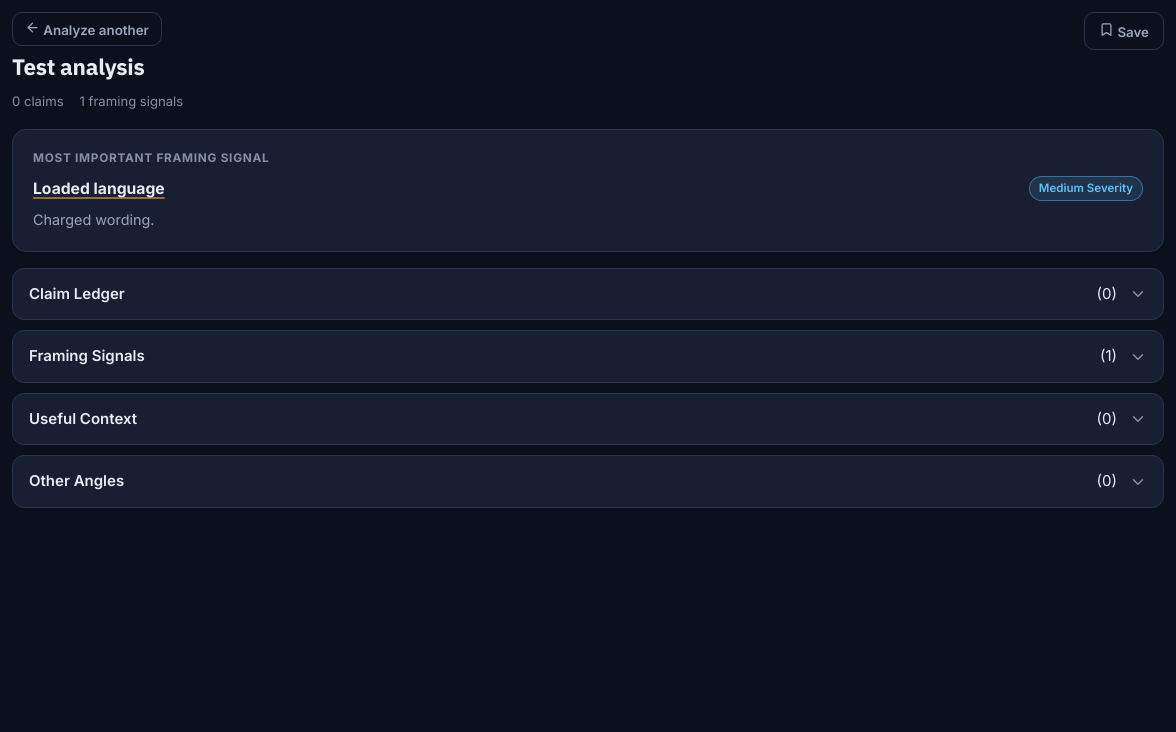
Test: Report gated Save — active session › shows "save did not complete" and re-enables on failure
Click the button "Save" at (1124, 31), box [1084, 12, 1164, 50]
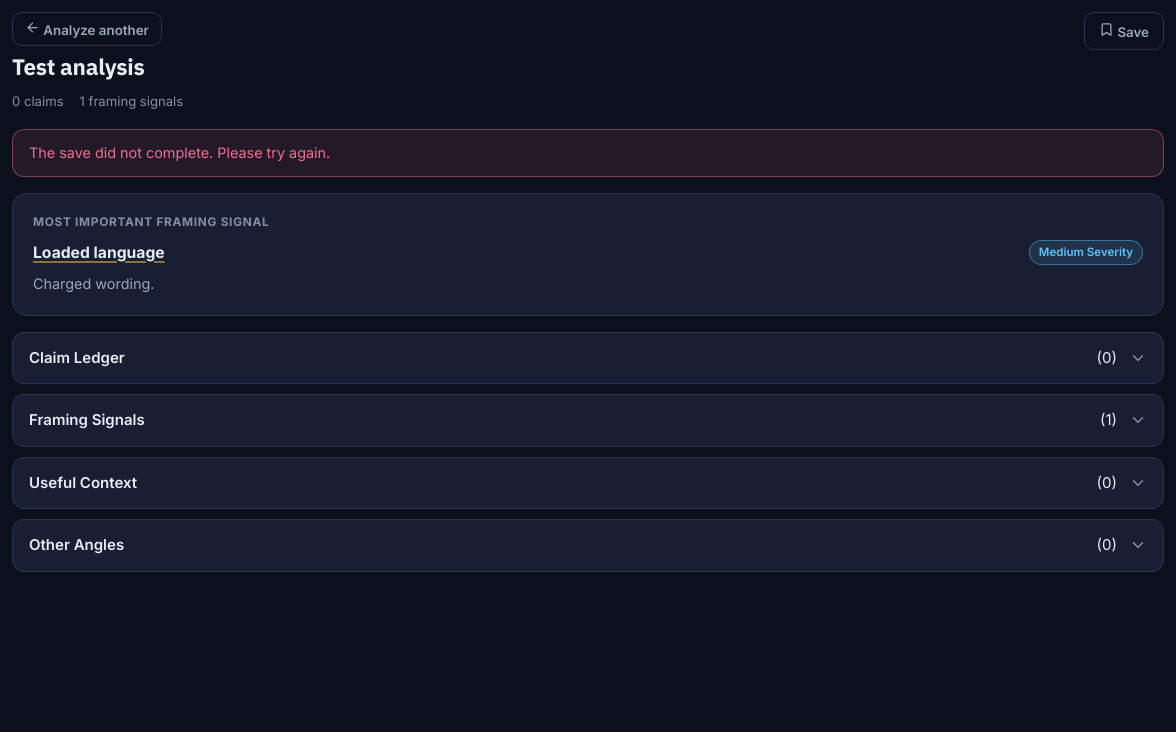
Check: the text "The save did not complete. Please try again." is shown, box [12, 129, 1164, 177]
